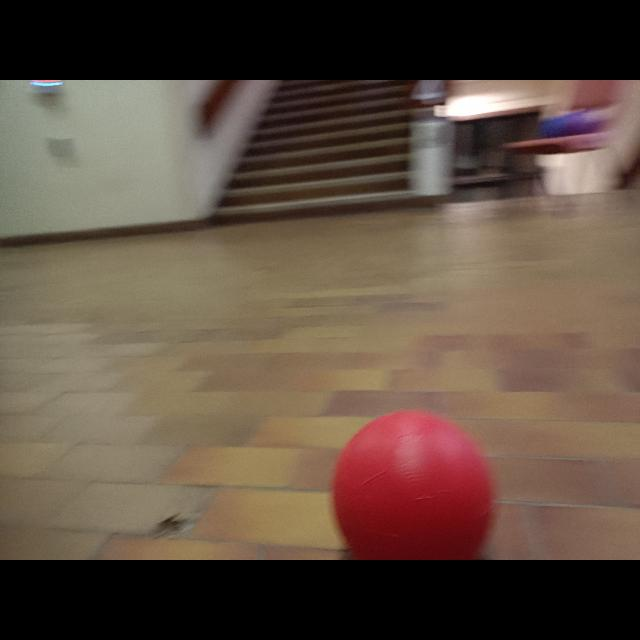B: (541, 115, 567, 137)
P: (568, 111, 600, 135)
R: (331, 412, 497, 560)
